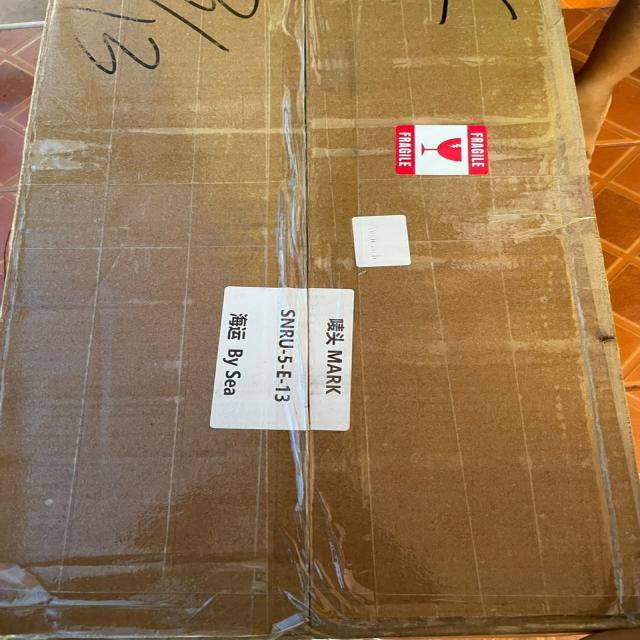carton_box: (0, 0, 640, 638)
export_mark_label: (210, 273, 371, 442)
fragile_label: (385, 115, 500, 189)
